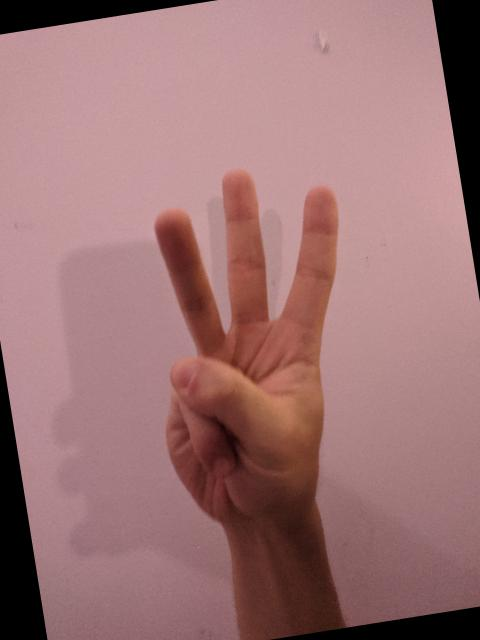W: (119, 148, 390, 536)
